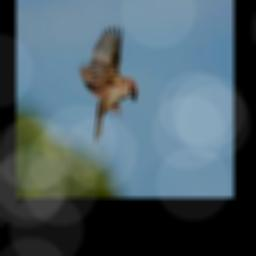Sparrow: (79, 26, 138, 145)
